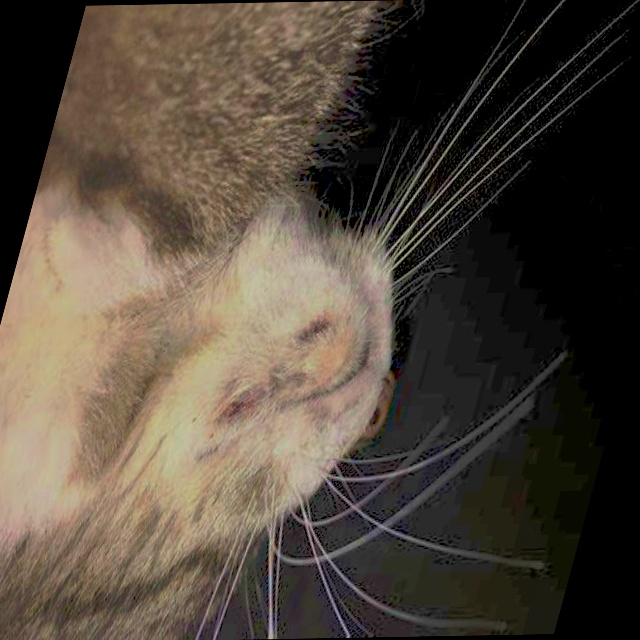acne: (206, 316, 332, 428)
